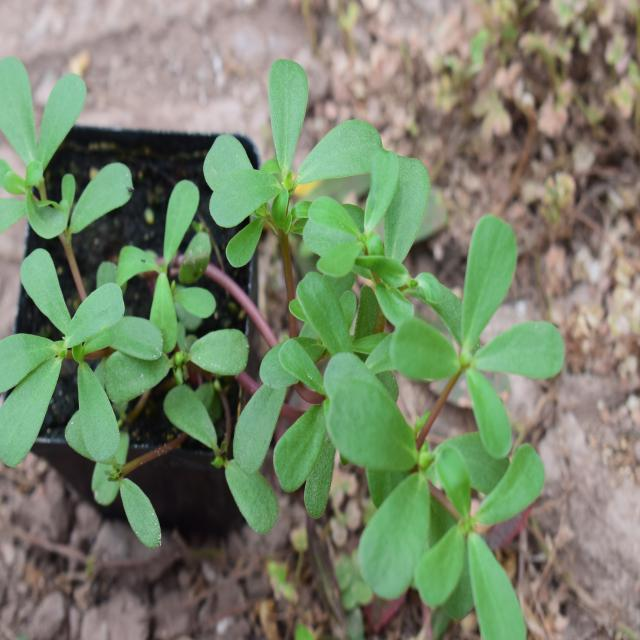purslane: (0, 65, 551, 614)
